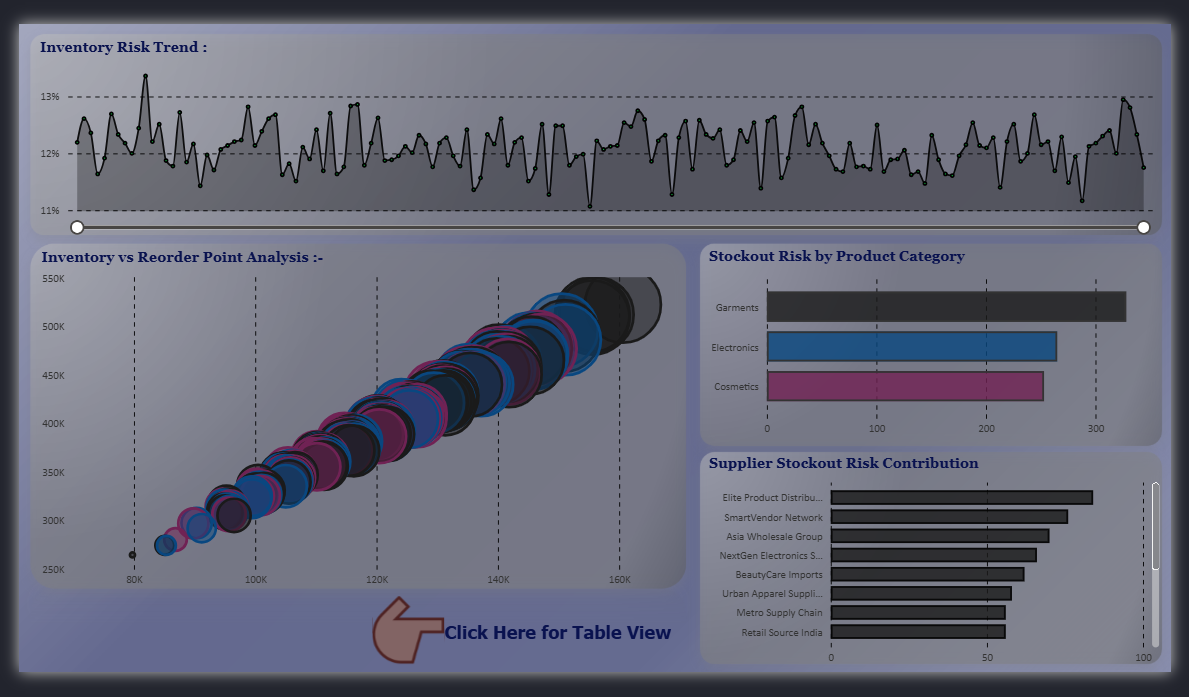

Layout of this report page (visuals, bound fields, positions):
{"tool":"powerbi","page":{"name":"Inventory Risk Intelligence :-","canvas":[1280,720],"ordinal":3},"visuals":[{"type":"lineChart","title":"Inventory Risk Trend :","fields":{"Category":["fact_inventory_snapshots.snapshot_date"],"Y":["MyMeasure.Inventory Risk %"]},"box":[18,16,1246,220],"z":0,"group":"g1"},{"type":"actionButton","box":[14.6,22.8,79.7,79.7],"z":0,"group":"g3"},{"type":"actionButton","box":[14.1,619.7,79.7,79.7],"z":0,"group":"g2"},{"type":"actionButton","title":"Table View On Button","box":[376,632,352,82],"z":0},{"type":"group","id":"g1","title":"All Visuals ","box":[18,16,1254,704],"z":1000},{"type":"actionButton","box":[15.1,135,79.7,79.7],"z":1000,"group":"g3"},{"type":"clusteredBarChart","title":"Stockout Risk by Product Category","fields":{"Category":["dim_products.category"],"Y":["MyMeasure.Critical SKU Locations"]},"box":[762,248,510,218],"z":1000,"group":"g1"},{"type":"actionButton","box":[108.4,619.7,79.7,79.7],"z":1000,"group":"g2"},{"type":"group","id":"g2","title":"All Buttons ","box":[14.1,22.8,174,676.6],"z":2000},{"type":"group","id":"g3","title":"Filter + Home Button","box":[14.6,22.8,80.2,191.9],"z":2000,"group":"g2"},{"type":"scatterChart","title":"Inventory vs Reorder Point Analysis :-","fields":{"Category":["dim_products.sku_id"],"Series":["dim_products.category"],"Size":["Sum(fact_inventory_snapshots.on_hand)"],"X":["Sum(fact_inventory_snapshots.reorder_point)"],"Y":["Sum(fact_inventory_snapshots.on_hand)"]},"box":[20,250,732,384],"z":2000,"group":"g1"},{"type":"barChart","title":"Supplier Stockout Risk Contribution ","fields":{"Category":["dim_suppliers.supplier_name"],"Y":["MyMeasure.Critical SKU Locations"]},"box":[762,478,510,242],"z":3000,"group":"g1"}]}

Visuals, with their boxes on the page's 1280x720 design canvas (x1, y1, x2, y2). These are canvas units, not pixel positions in the 1189x697 screenshot, which may show the page scaled, cropped or inside an application window:
"Inventory Risk Trend :" lineChart: {"x1": 18, "y1": 16, "x2": 1264, "y2": 236}
actionButton: {"x1": 15, "y1": 23, "x2": 94, "y2": 102}
actionButton: {"x1": 14, "y1": 620, "x2": 94, "y2": 699}
"Table View On Button" actionButton: {"x1": 376, "y1": 632, "x2": 728, "y2": 714}
"All Visuals " group: {"x1": 18, "y1": 16, "x2": 1272, "y2": 720}
actionButton: {"x1": 15, "y1": 135, "x2": 95, "y2": 215}
"Stockout Risk by Product Category" clusteredBarChart: {"x1": 762, "y1": 248, "x2": 1272, "y2": 466}
actionButton: {"x1": 108, "y1": 620, "x2": 188, "y2": 699}
"All Buttons " group: {"x1": 14, "y1": 23, "x2": 188, "y2": 699}
"Filter + Home Button" group: {"x1": 15, "y1": 23, "x2": 95, "y2": 215}
"Inventory vs Reorder Point Analysis :-" scatterChart: {"x1": 20, "y1": 250, "x2": 752, "y2": 634}
"Supplier Stockout Risk Contribution " barChart: {"x1": 762, "y1": 478, "x2": 1272, "y2": 720}
